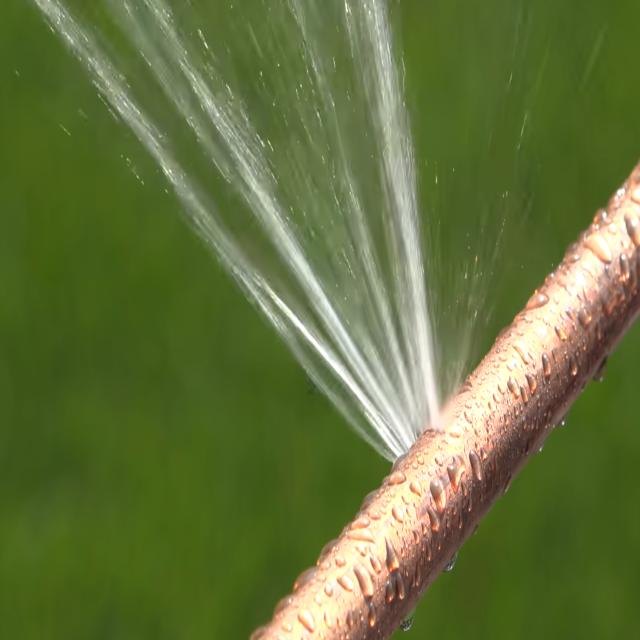leak: (28, 0, 446, 462)
